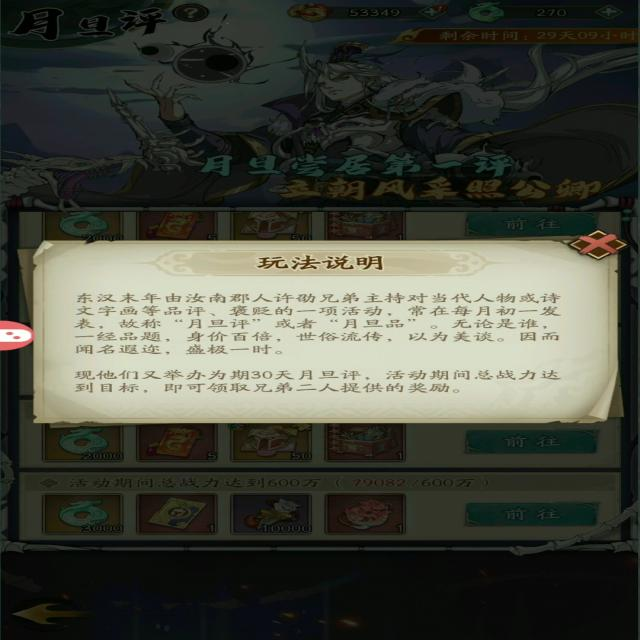operation-close: (574, 231, 627, 259)
